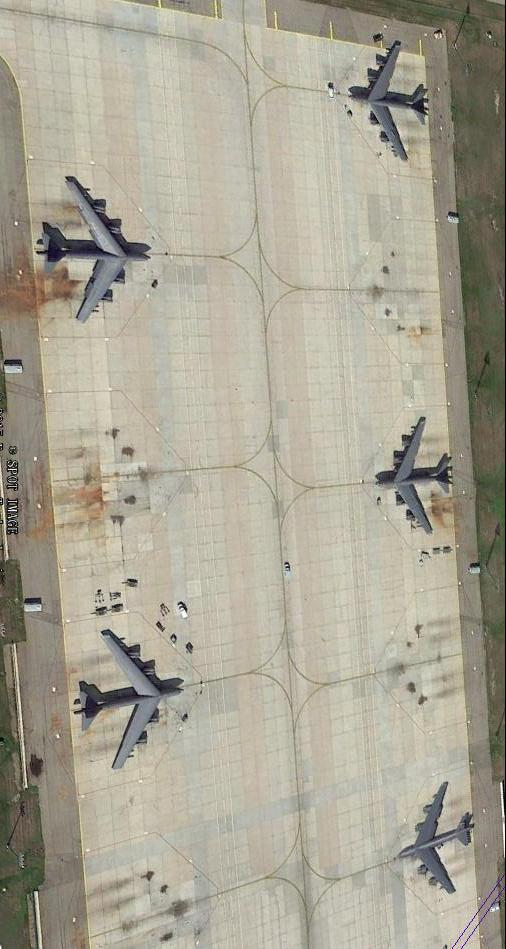B-52: (73, 627, 185, 778), (34, 181, 152, 321), (394, 780, 479, 897), (347, 42, 429, 161), (374, 416, 451, 542)
